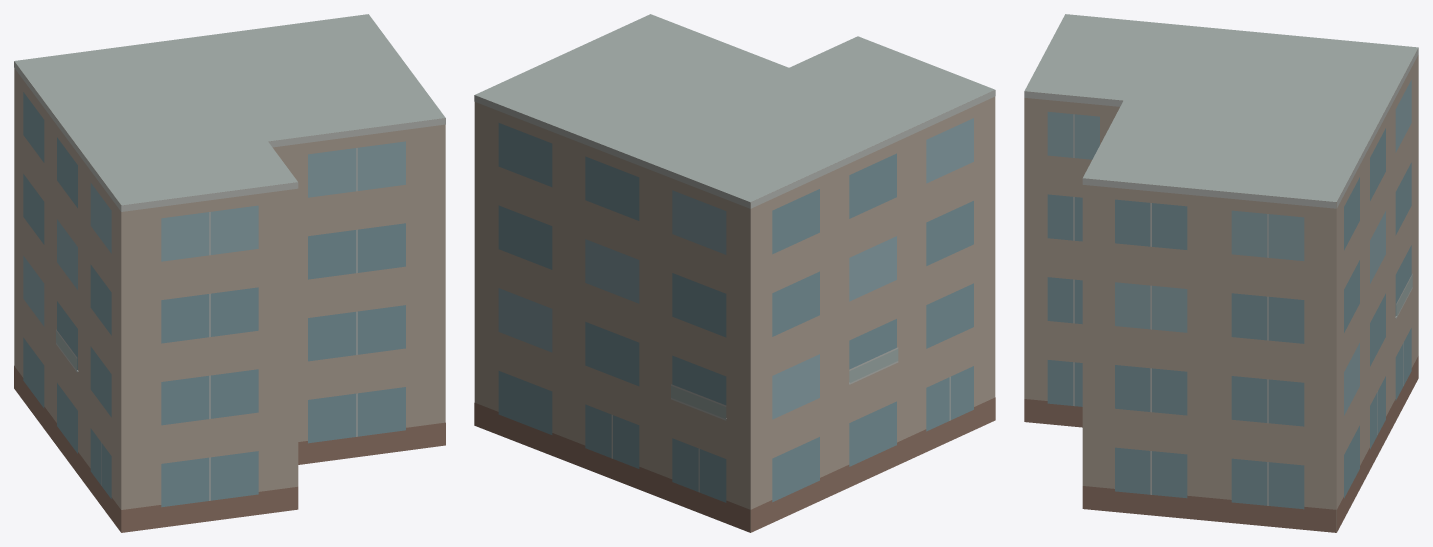
File: residential-315cecb7-baec-4ca4-8ddd-ed683f9e963a.glb
The picture shows the model from 3 angles, left to right: view 1: azimuth 30°, elevation 25°; view 2: azimuth 150°, elevation 25°; view 3: azimuth 270°, elevation 25°; orthographic projection.
Visible parts, largest first — view 1: residential-315cecb7-baec-4ca4-8ddd-ed683f9e963a.tmp; view 2: residential-315cecb7-baec-4ca4-8ddd-ed683f9e963a.tmp; view 3: residential-315cecb7-baec-4ca4-8ddd-ed683f9e963a.tmp.
Part boxes in pixels (x1,y1,x2,y2): residential-315cecb7-baec-4ca4-8ddd-ed683f9e963a.tmp: (14, 14, 445, 532); residential-315cecb7-baec-4ca4-8ddd-ed683f9e963a.tmp: (474, 14, 995, 532); residential-315cecb7-baec-4ca4-8ddd-ed683f9e963a.tmp: (1024, 14, 1418, 532).
Size of the model in its own units: 14.89 by 12.2 by 13.19.
